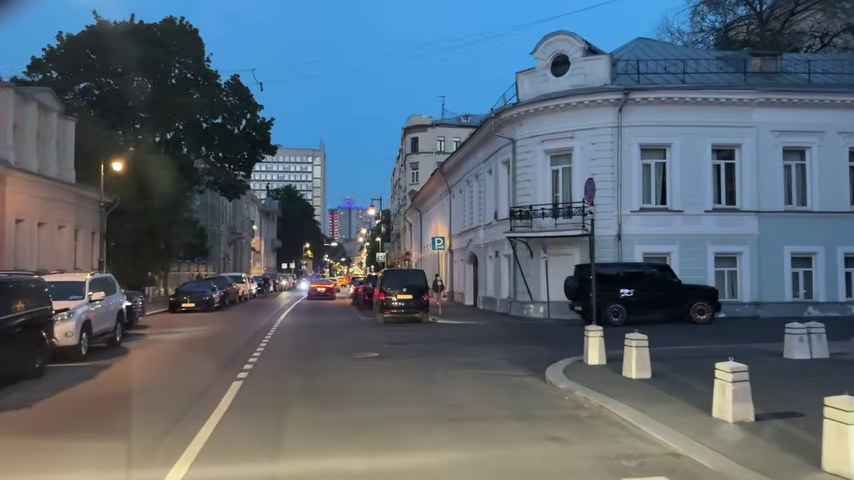acesa: (107, 156, 128, 176)
